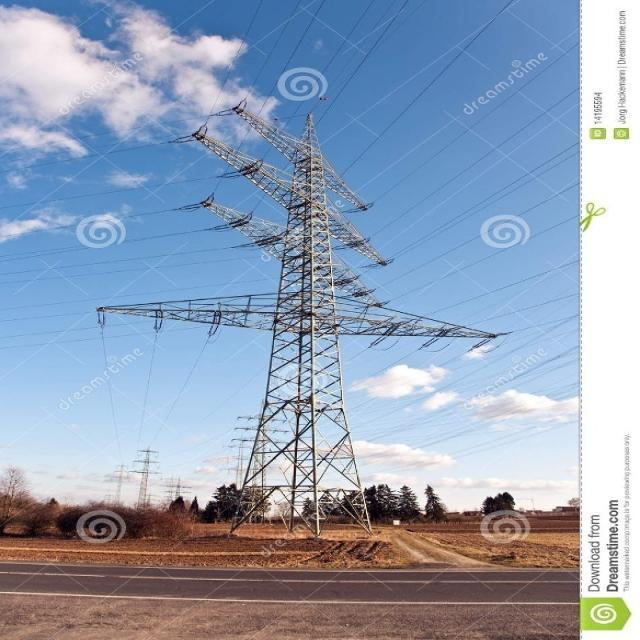non-critical vegetation: (81, 102, 525, 546)
